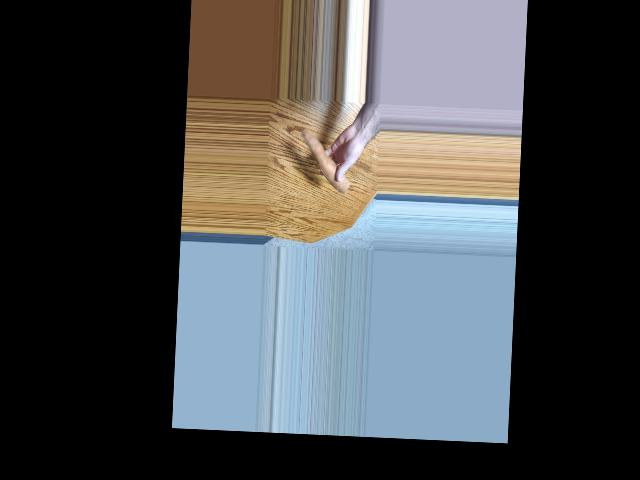sweet_potato: (301, 129, 353, 188)
